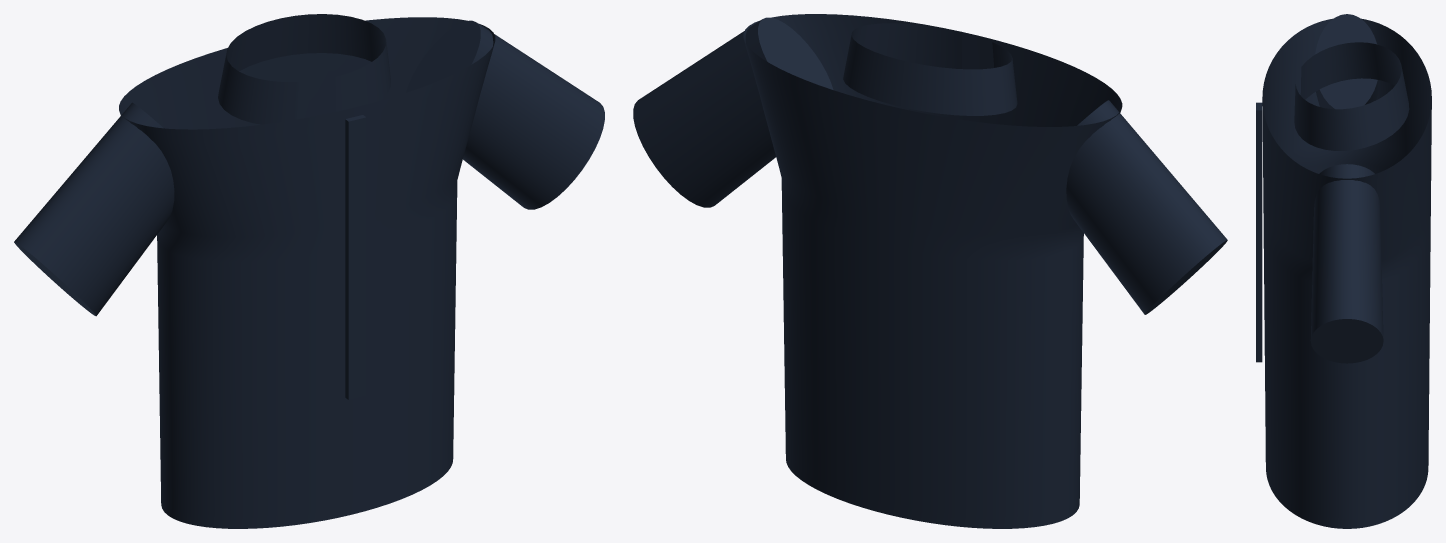
The model's file is shirt.glb.
The picture shows the model from 3 angles, left to right: view 1: azimuth 30°, elevation 25°; view 2: azimuth 150°, elevation 25°; view 3: azimuth 270°, elevation 25°; orthographic projection. The views are drawn at different scales.
Parts seen in each view (by area): view 1: Torso, RightSleeve, LeftSleeve, Collar, Placket; view 2: Torso, RightSleeve, LeftSleeve, Collar; view 3: Torso, RightSleeve, Collar, LeftSleeve, Placket.
Boxes of the visible parts, x1,y1,x2,y2 form: Torso: [119, 17, 495, 528]; RightSleeve: [406, 20, 604, 209]; LeftSleeve: [14, 102, 174, 316]; Collar: [218, 14, 390, 124]; Placket: [345, 115, 366, 399]; Torso: [743, 14, 1122, 528]; RightSleeve: [633, 17, 833, 207]; LeftSleeve: [1066, 100, 1227, 314]; Collar: [843, 23, 1017, 115]; Torso: [1262, 18, 1431, 528]; RightSleeve: [1310, 164, 1383, 363]; Collar: [1294, 42, 1409, 150]; LeftSleeve: [1315, 14, 1379, 109]; Placket: [1256, 102, 1262, 362].
Size of the model in its own units: 1.97 by 1.42 by 0.5694.
